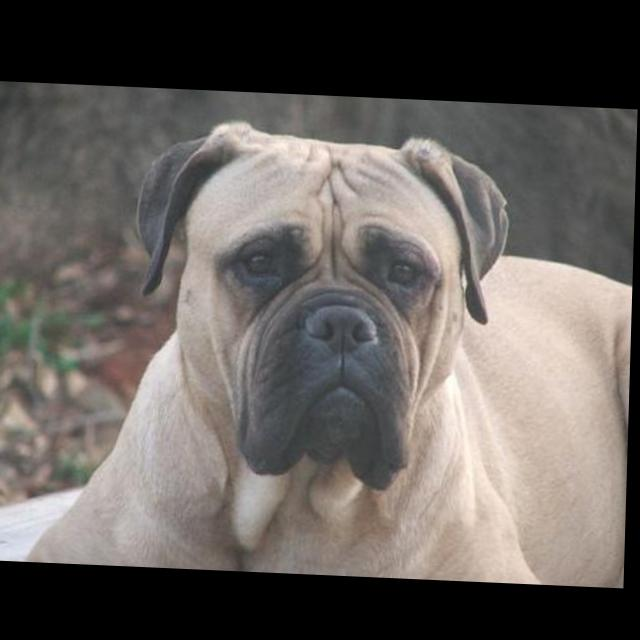bullmastiff: (8, 109, 638, 582)
